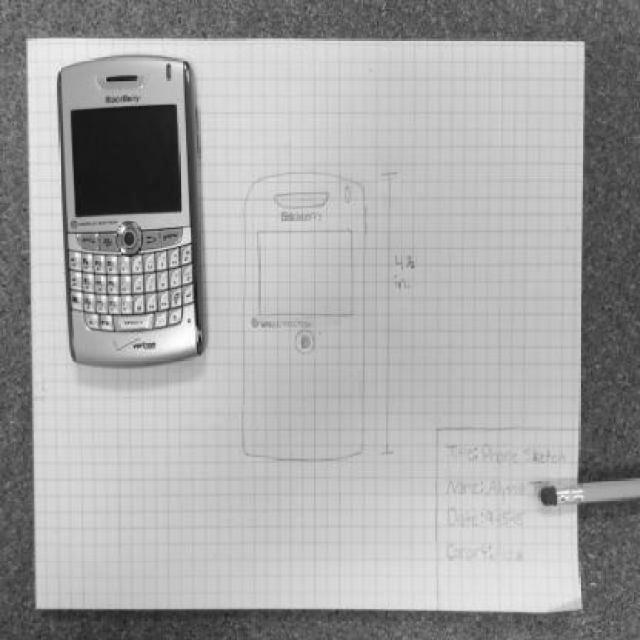fake: (50, 42, 202, 372), (242, 170, 364, 458)
